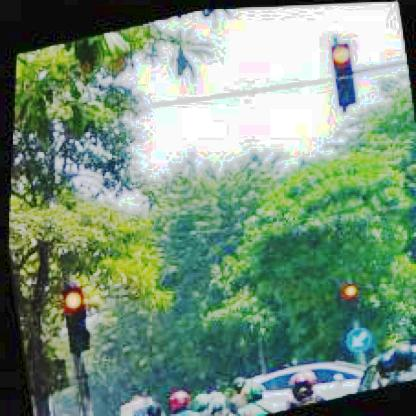Traffic Light -Red-: (58, 283, 92, 351), (324, 41, 358, 109)
